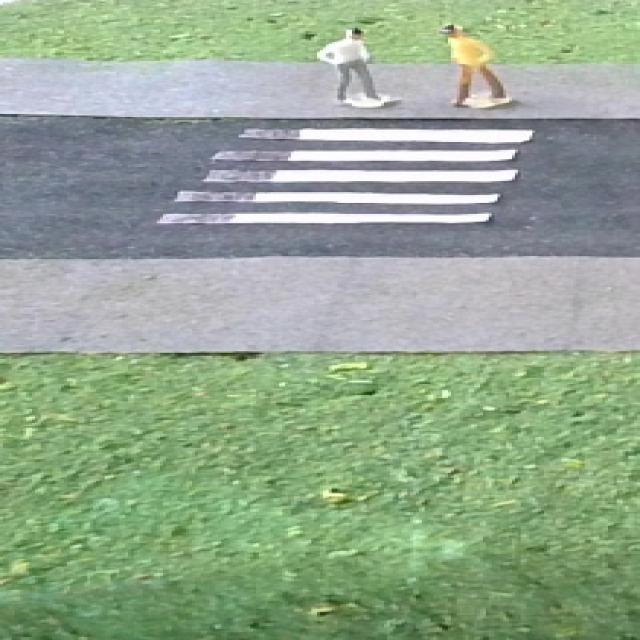person: (311, 26, 406, 112), (435, 20, 517, 111)
